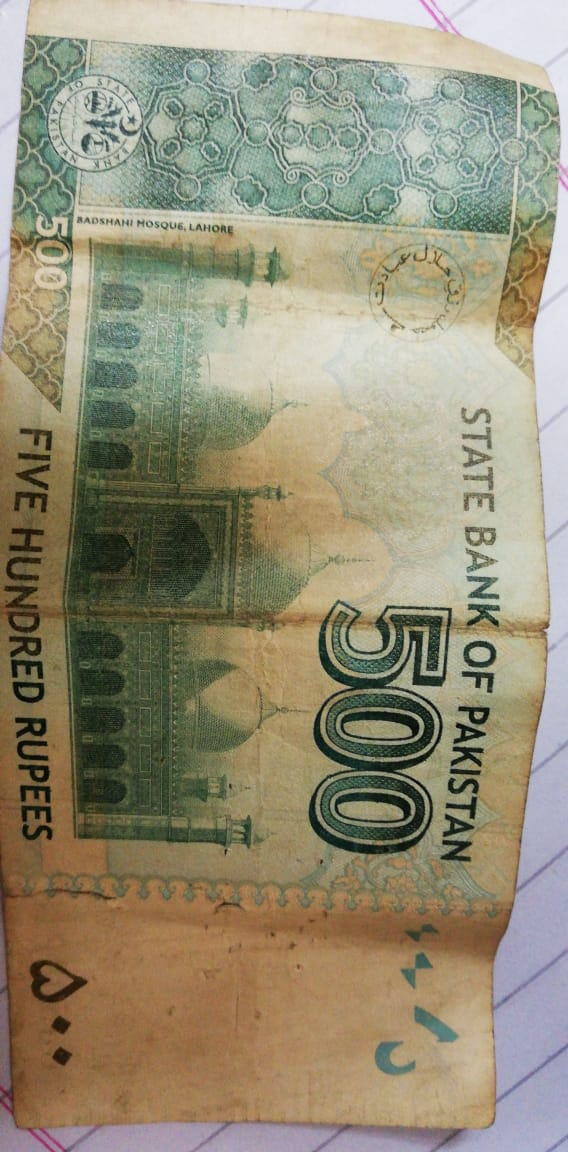500 rupee: (14, 27, 549, 1127)
